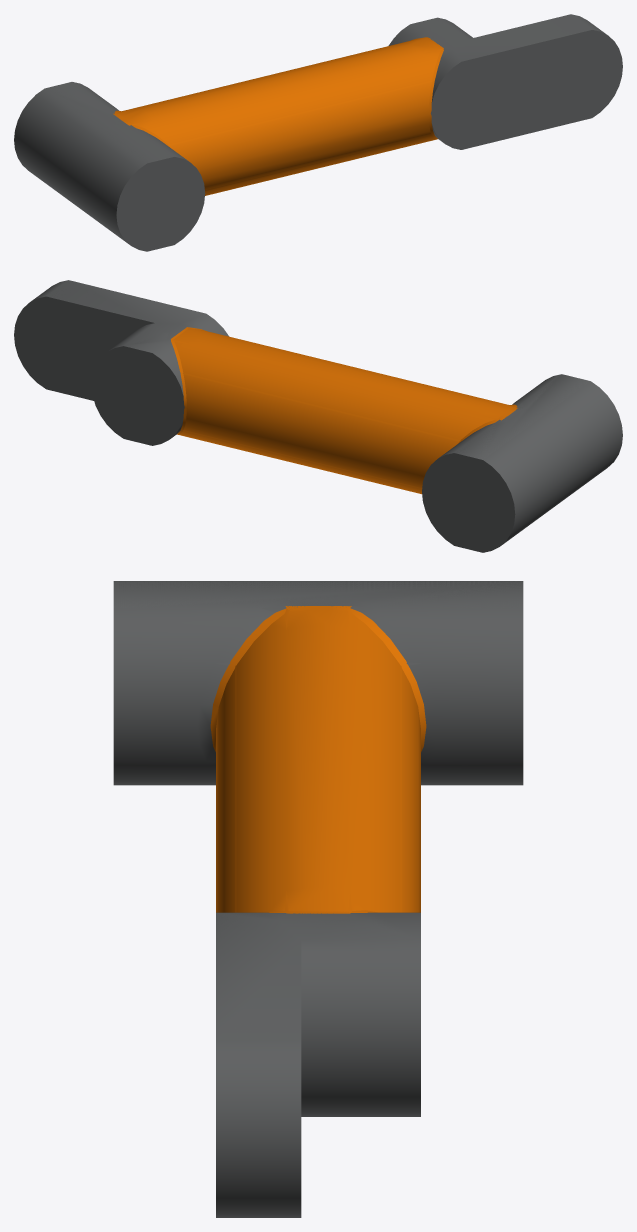
The picture shows the model from 3 angles, top to bottom: view 1: azimuth 30°, elevation 25°; view 2: azimuth 150°, elevation 25°; view 3: azimuth 270°, elevation 25°; orthographic projection. The views are drawn at different scales.
Visible parts, largest first — view 1: e2_LOD0, e2_col; view 2: e2_LOD0, e2_col; view 3: e2_LOD0, e2_col.
Part boxes in pixels (x1,y1,x2,y2): e2_LOD0: (14,14,622,251); e2_col: (46,14,616,250); e2_LOD0: (14,280,622,552); e2_col: (14,293,590,551); e2_LOD0: (113,581,523,1217); e2_col: (113,581,523,1040).
Size of what is drawn, in the model's own units: 71.96 by 11.67 by 24.
